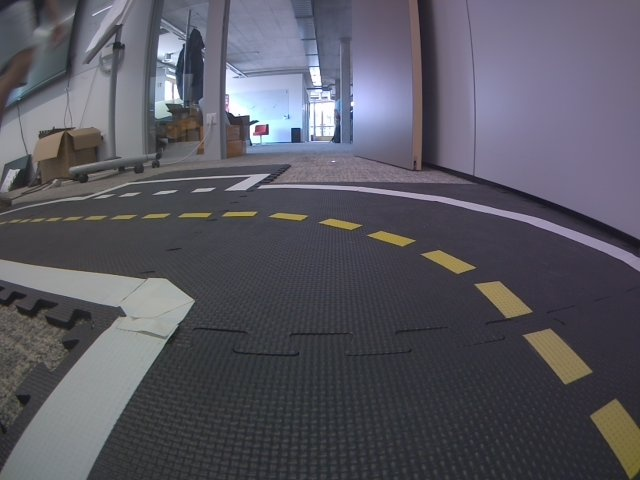freeSlot: (83, 173, 270, 199)
